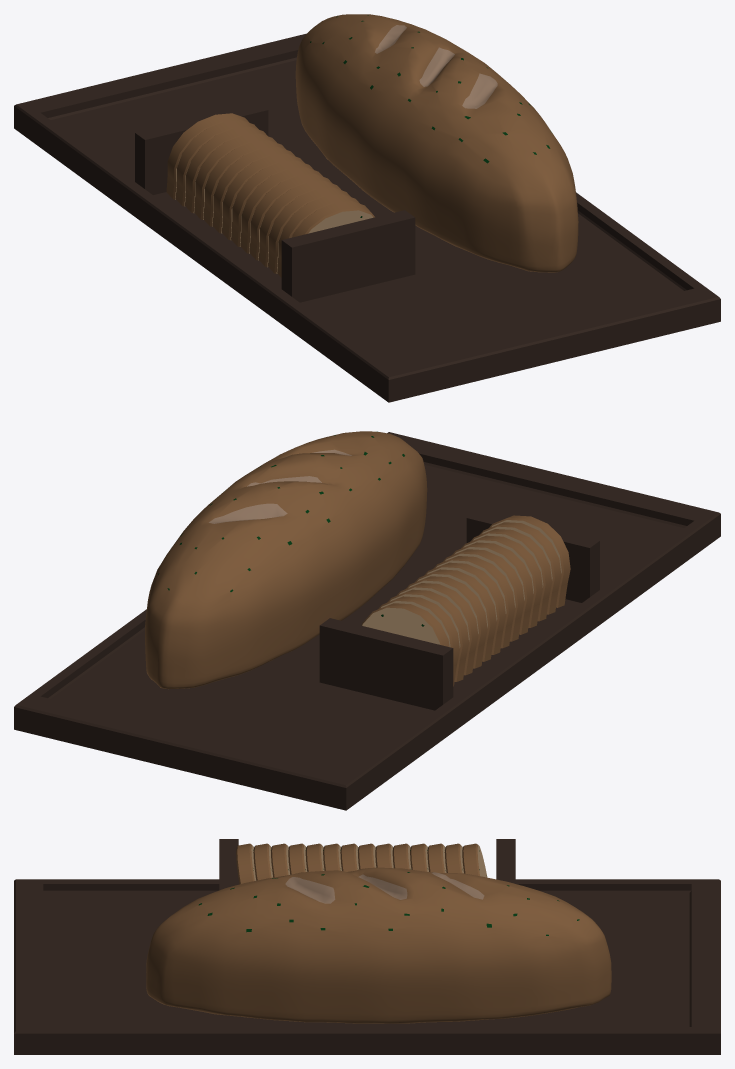
Rendered from Tray w_ Bread.fbx.
The picture shows the model from 3 angles, top to bottom: view 1: azimuth 30°, elevation 25°; view 2: azimuth 150°, elevation 25°; view 3: azimuth 270°, elevation 25°; orthographic projection. The views are drawn at different scales.
Parts seen in each view (by area): view 1: Tray, Bread, Bread14, Bread5, Bread9, Bread12, Bread8, Bread1, Bread4, Bread10, Bread3, Bread6 (+4 smaller); view 2: Tray, Bread, Bread1, Bread13, Bread3, Bread4, Bread9, Bread6, Bread7, Bread8, Bread12, Bread14 (+4 smaller); view 3: Tray, Bread, Bread14, Bread1, Bread13, Bread12, Bread11, Bread2, Bread3, Bread10, Bread8, Bread4 (+4 smaller).
Boxes of the visible parts, box(x1,y1,x2,y2) form: Tray: box(14, 33, 720, 402); Bread: box(295, 14, 578, 272); Bread14: box(292, 201, 374, 237); Bread5: box(203, 140, 286, 226); Bread9: box(240, 167, 322, 253); Bread12: box(268, 187, 350, 273); Bread8: box(231, 160, 313, 246); Bread1: box(166, 113, 249, 199); Bread4: box(194, 133, 276, 219); Bread10: box(249, 174, 332, 260); Bread3: box(185, 126, 267, 213); Bread6: box(212, 147, 295, 233); Tray: box(14, 432, 720, 810); Bread: box(145, 431, 427, 689); Bread1: box(361, 603, 449, 646); Bread13: box(479, 522, 561, 614); Bread3: box(387, 589, 469, 681); Bread4: box(396, 583, 478, 675); Bread9: box(443, 549, 524, 641); Bread6: box(415, 569, 496, 661); Bread7: box(424, 562, 505, 654); Bread8: box(433, 556, 515, 648); Bread12: box(470, 529, 552, 621); Bread14: box(489, 515, 570, 607); Tray: box(14, 839, 720, 1054); Bread: box(146, 867, 611, 1023); Bread14: box(236, 843, 256, 884); Bread1: box(462, 843, 487, 877); Bread13: box(253, 843, 272, 880); Bread12: box(271, 843, 290, 877); Bread11: box(288, 843, 307, 874); Bread2: box(444, 843, 463, 873); Bread3: box(427, 843, 446, 872); Bread10: box(305, 843, 324, 871); Bread8: box(340, 843, 358, 871); Bread4: box(410, 843, 428, 871).
Size of the model in its own units: 236 by 98.71 by 461.
